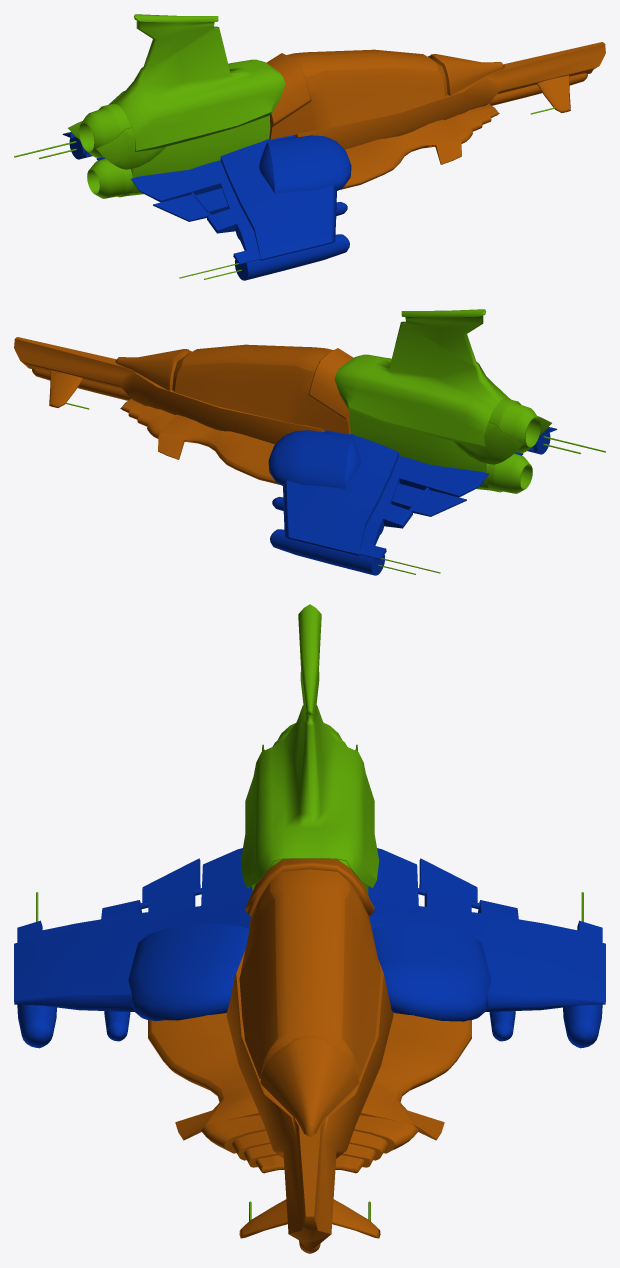
The model's file is Player_Ship_Phase_6.fbx.
The picture shows the model from 3 angles, top to bottom: view 1: azimuth 30°, elevation 25°; view 2: azimuth 150°, elevation 25°; view 3: azimuth 270°, elevation 25°; orthographic projection. The views are drawn at different scales.
Visible parts, largest first — view 1: TailFin_GEO_Low, Cockpit_GEO_Low, Wing_Primary_R_GEO_Low, Hull_GEO_Low, Wing_Secondary_R_GEO_Low, Fuel_Tank_Large_R_GEO_Low, Pre_Grill_Structure_GEO_Low, Feusalage_GEO_Low, Fuel_Tank_Small_R_GEO_Low, Thruster_GEO_1_Low, Cockpit_Guard_GEO_Low, Thruster_GEO_2_Low (+5 smaller); view 2: TailFin_GEO_Low, Cockpit_GEO_Low, Wing_Primary_L_GEO_Low, Hull_GEO_Low, Wing_Secondary_L_GEO_Low, Fuel_Tank_Large_L_GEO_Low, Pre_Grill_Structure_GEO_Low, Feusalage_GEO_Low, Fuel_Tank_Small_L_GEO_Low, Thruster_GEO_1_Low, Cockpit_Guard_GEO_Low, Thruster_GEO_2_Low (+5 smaller); view 3: Cockpit_GEO_Low, TailFin_GEO_Low, Pre_Grill_Structure_GEO_Low, Wing_Primary_R_GEO_Low, Wing_Primary_L_GEO_Low, Hull_GEO_Low, Fuel_Tank_Large_L_GEO_Low, Fuel_Tank_Large_R_GEO_Low, Cockpit_Guard_GEO_Low, Grill_GEO_Low, Wing_Secondary_L_GEO_Low, Wing_Secondary_R_GEO_Low (+6 smaller).
Part boxes in pixels (bbox=[...]): TailFin_GEO_Low: bbox=[109, 14, 285, 151]; Cockpit_GEO_Low: bbox=[266, 49, 447, 139]; Wing_Primary_R_GEO_Low: bbox=[220, 135, 336, 260]; Hull_GEO_Low: bbox=[294, 42, 605, 149]; Wing_Secondary_R_GEO_Low: bbox=[131, 160, 260, 264]; Fuel_Tank_Large_R_GEO_Low: bbox=[259, 135, 351, 193]; Pre_Grill_Structure_GEO_Low: bbox=[340, 119, 461, 189]; Feusalage_GEO_Low: bbox=[126, 115, 270, 196]; Fuel_Tank_Small_R_GEO_Low: bbox=[235, 234, 349, 280]; Thruster_GEO_1_Low: bbox=[79, 103, 130, 158]; Cockpit_Guard_GEO_Low: bbox=[428, 54, 504, 95]; Thruster_GEO_2_Low: bbox=[87, 158, 133, 198]; TailFin_GEO_Low: bbox=[334, 309, 510, 446]; Cockpit_GEO_Low: bbox=[172, 344, 353, 434]; Wing_Primary_L_GEO_Low: bbox=[283, 430, 399, 555]; Hull_GEO_Low: bbox=[14, 337, 325, 444]; Wing_Secondary_L_GEO_Low: bbox=[359, 456, 488, 559]; Fuel_Tank_Large_L_GEO_Low: bbox=[268, 430, 360, 488]; Pre_Grill_Structure_GEO_Low: bbox=[158, 414, 279, 484]; Feusalage_GEO_Low: bbox=[349, 410, 492, 490]; Fuel_Tank_Small_L_GEO_Low: bbox=[270, 529, 384, 575]; Thruster_GEO_1_Low: bbox=[489, 398, 540, 453]; Cockpit_Guard_GEO_Low: bbox=[115, 349, 191, 390]; Thruster_GEO_2_Low: bbox=[486, 453, 532, 493]; Cockpit_GEO_Low: bbox=[239, 858, 380, 1078]; TailFin_GEO_Low: bbox=[240, 604, 379, 888]; Pre_Grill_Structure_GEO_Low: bbox=[148, 1012, 471, 1140]; Wing_Primary_R_GEO_Low: bbox=[14, 900, 250, 1011]; Wing_Primary_L_GEO_Low: bbox=[369, 900, 605, 1011]; Hull_GEO_Low: bbox=[226, 950, 393, 1249]; Fuel_Tank_Large_L_GEO_Low: bbox=[372, 924, 491, 1021]; Fuel_Tank_Large_R_GEO_Low: bbox=[128, 924, 248, 1021]; Cockpit_Guard_GEO_Low: bbox=[260, 1035, 359, 1136]; Grill_GEO_Low: bbox=[200, 1115, 419, 1173]; Wing_Secondary_L_GEO_Low: bbox=[368, 848, 602, 942]; Wing_Secondary_R_GEO_Low: bbox=[17, 848, 252, 942].
Bounding box in the file's own units: 873 × 336 × 520.
